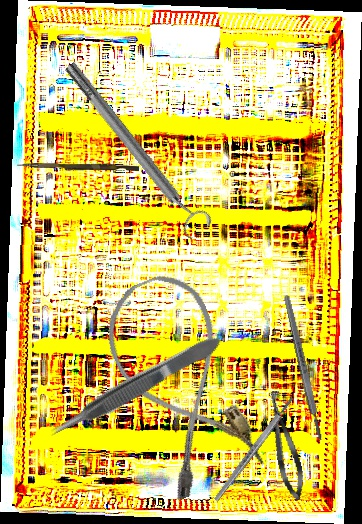Cannula: (90, 263, 270, 504)
Fixation Ring: (57, 54, 215, 242)
Micro Scissor: (262, 389, 309, 503)
Pusher: (17, 163, 139, 171)
Scalpel Handle: (212, 395, 296, 503), (282, 293, 325, 442)
Tissue Forceps: (44, 331, 227, 444)
